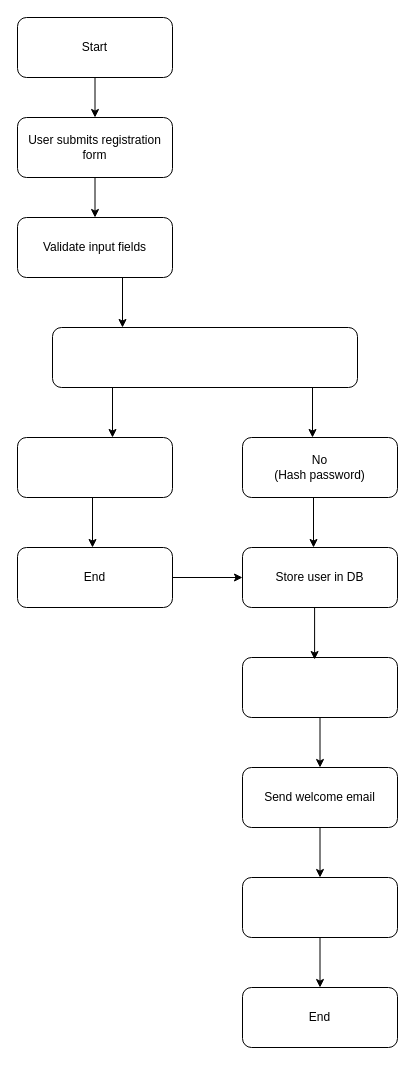
This 415x1065 diagram has some shape labels left out. Each missing label, with the box of its shape:
Generate JWT Token: (242, 656, 398, 718)
Is email already in use?: (52, 326, 358, 388)
Return success + Token: (242, 876, 398, 938)
Yes (Show error): (16, 436, 172, 498)
